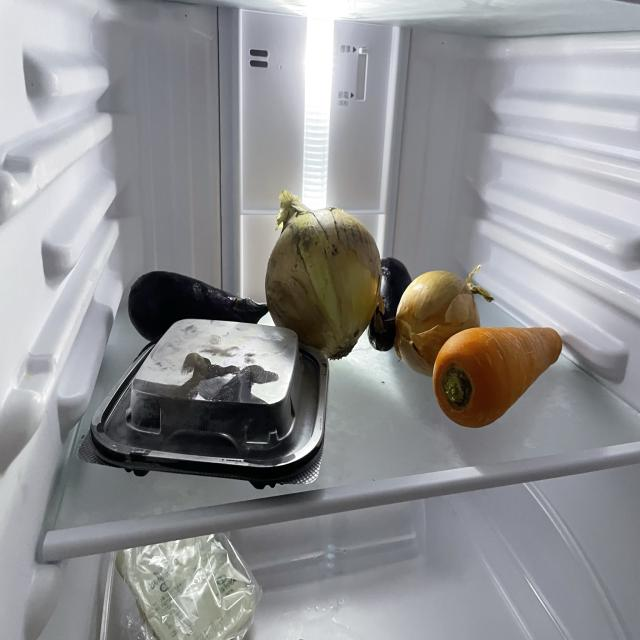carrot: (432, 321, 573, 430)
eggplant: (129, 270, 272, 355), (373, 254, 413, 359)
onion: (268, 196, 387, 382), (397, 262, 482, 379)
